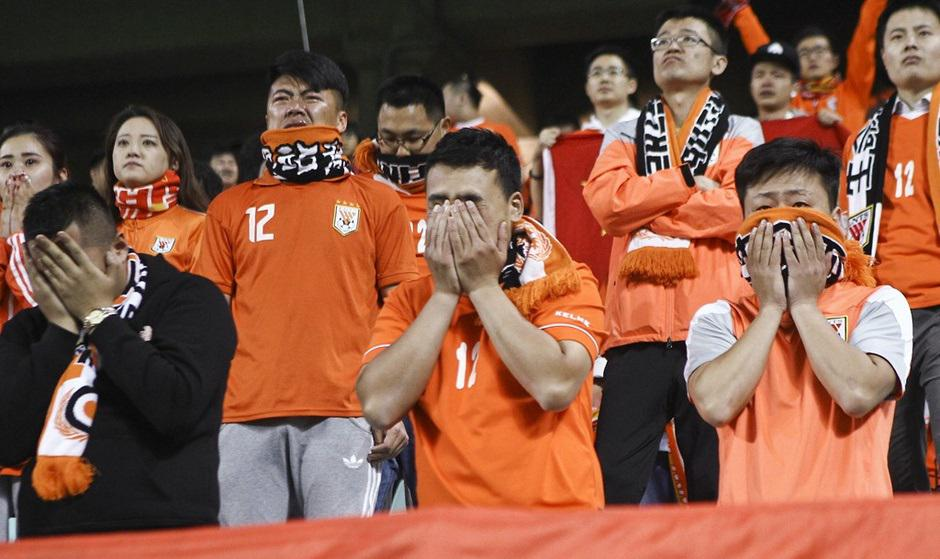NONE: (35, 220, 129, 311), (428, 187, 506, 264), (266, 88, 325, 147), (885, 22, 940, 81), (655, 26, 707, 87), (1, 146, 53, 202), (118, 130, 164, 179), (590, 64, 628, 109), (755, 64, 791, 106), (800, 39, 834, 76), (215, 155, 241, 184)
OK: (749, 186, 839, 276)
WRONG: (376, 109, 431, 176)
